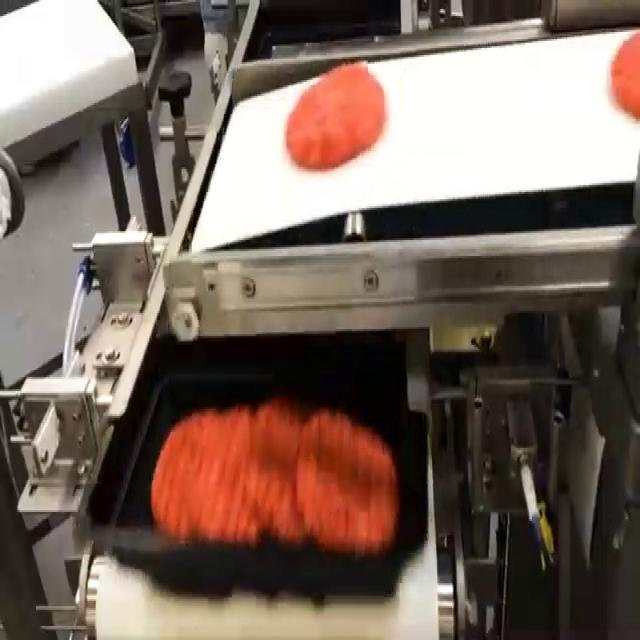4-hamburguer: (151, 398, 399, 551)
hamburguer: (285, 62, 386, 171)
